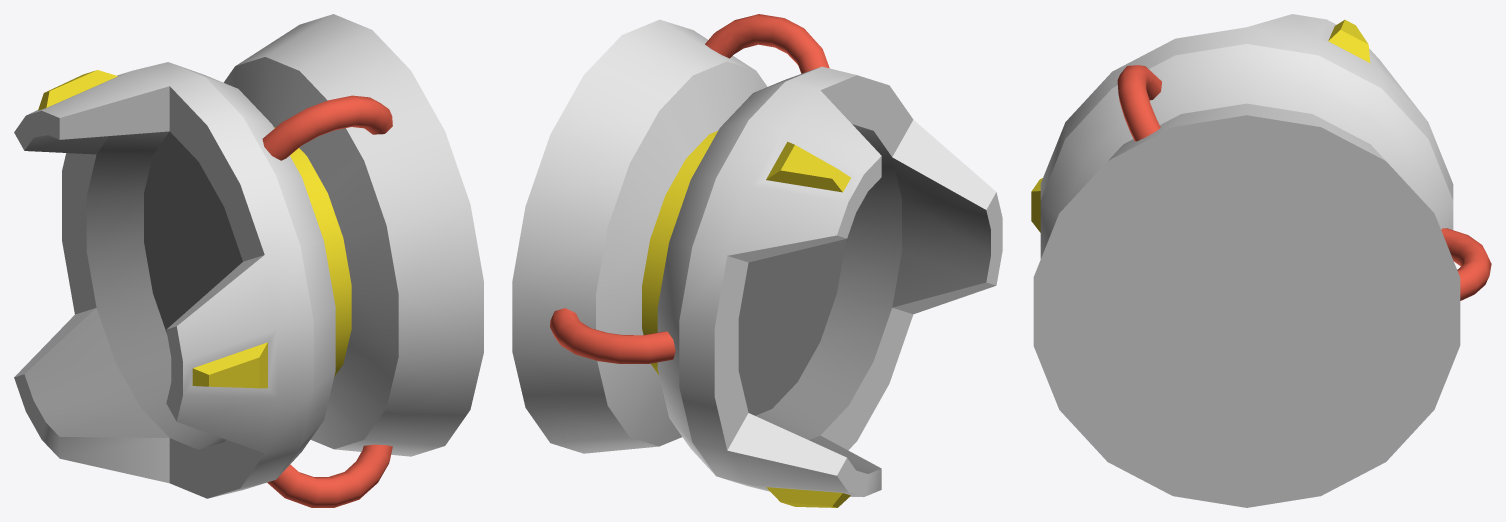
The model's file is rocket_4.fbx.
The picture shows the model from 3 angles, left to right: view 1: azimuth 30°, elevation 25°; view 2: azimuth 150°, elevation 25°; view 3: azimuth 270°, elevation 25°; orthographic projection. The views are drawn at different scales.
Parts seen in each view (by area): view 1: rocket_4; view 2: rocket_4; view 3: rocket_4.
Boxes of the visible parts, x1,y1,x2,y2 form: rocket_4: (14, 14, 483, 507); rocket_4: (512, 14, 1002, 507); rocket_4: (1031, 14, 1491, 507).
Size of the model in its own units: 98.12 by 133 by 142.
